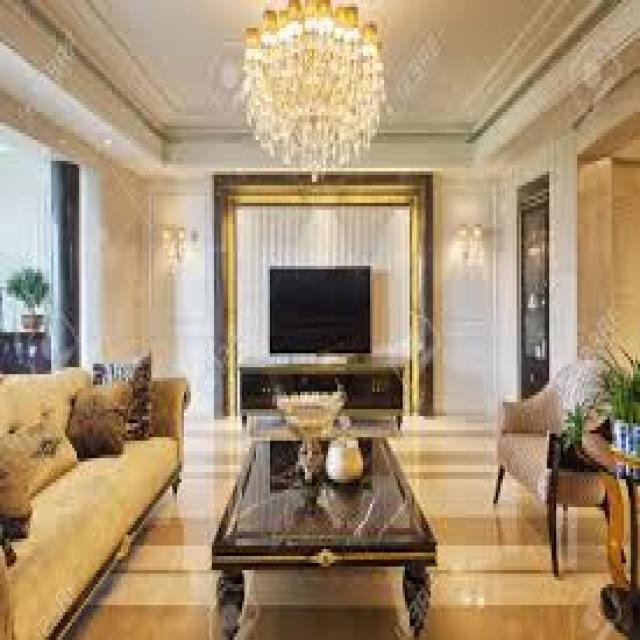Chair: (486, 348, 620, 566)
Sofa: (6, 351, 186, 634)
Table: (230, 388, 437, 634)
tv: (266, 263, 375, 356)
